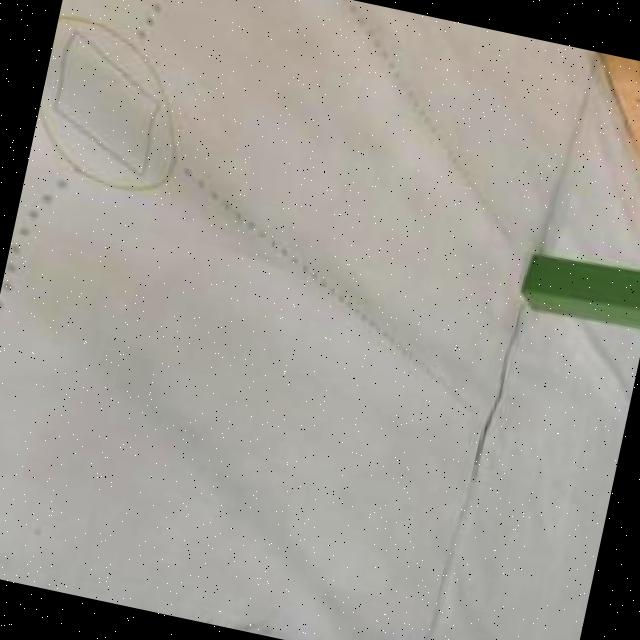greenbox: (517, 249, 640, 336)
